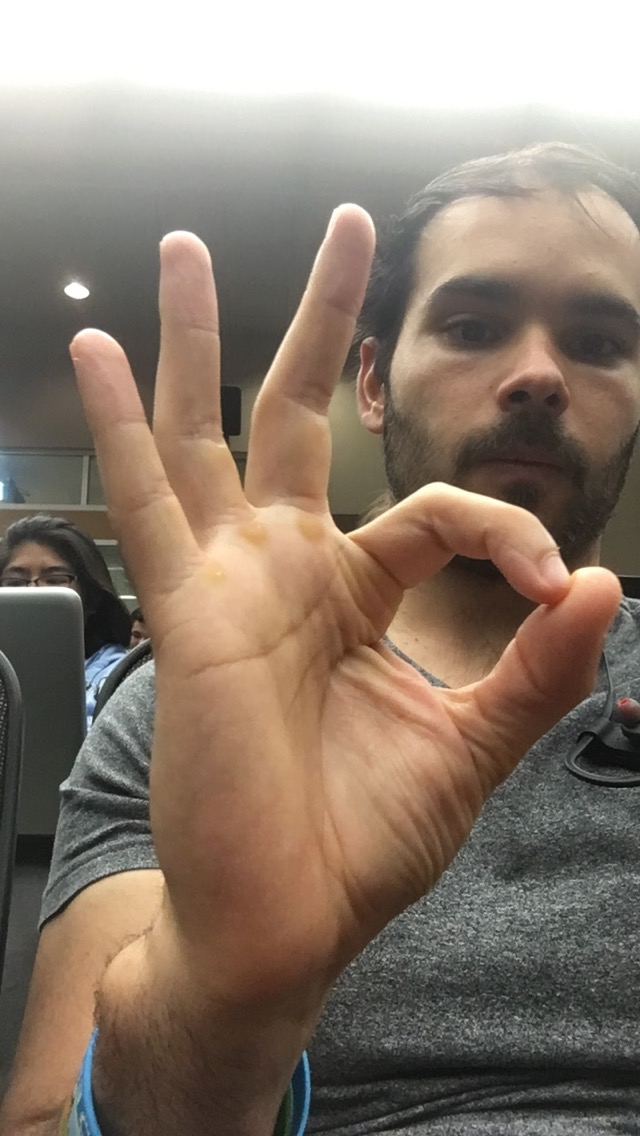defaultd: (66, 200, 624, 994)
